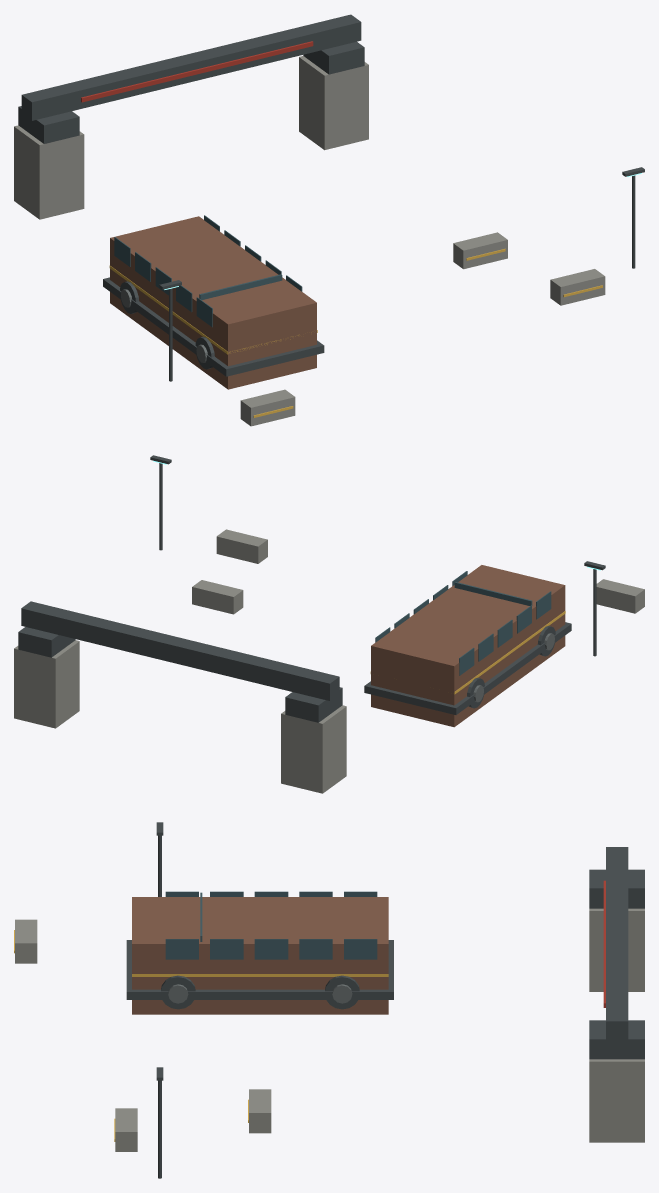
Rendered from Ville_02_Checkpoint.fbx.
3 renders of one model, top to bottom at view 1: azimuth 30°, elevation 25°; view 2: azimuth 150°, elevation 25°; view 3: azimuth 270°, elevation 25°, orthographic. The views are drawn at different scales.
Parts seen in each view (by area): view 1: Ville_02_Checkpoint_rust, Ville_02_Checkpoint_iron, Ville_02_Checkpoint_concrete, Ville_02_Checkpoint_glass, Ville_02_Checkpoint_red, Ville_02_Checkpoint_yellow; view 2: Ville_02_Checkpoint_rust, Ville_02_Checkpoint_iron, Ville_02_Checkpoint_concrete, Ville_02_Checkpoint_glass; view 3: Ville_02_Checkpoint_rust, Ville_02_Checkpoint_iron, Ville_02_Checkpoint_concrete, Ville_02_Checkpoint_glass, Ville_02_Checkpoint_yellow, Ville_02_Checkpoint_concrete_dark.
Boxes of the visible parts, x1=… form: Ville_02_Checkpoint_rust: x1=110, y1=216, x2=316, y2=389; Ville_02_Checkpoint_iron: x1=18, y1=14, x2=644, y2=381; Ville_02_Checkpoint_concrete: x1=14, y1=56, x2=605, y2=426; Ville_02_Checkpoint_glass: x1=114, y1=215, x2=302, y2=327; Ville_02_Checkpoint_red: x1=81, y1=41, x2=313, y2=102; Ville_02_Checkpoint_yellow: x1=109, y1=248, x2=602, y2=417; Ville_02_Checkpoint_rust: x1=371, y1=565, x2=565, y2=727; Ville_02_Checkpoint_iron: x1=18, y1=455, x2=605, y2=722; Ville_02_Checkpoint_concrete: x1=14, y1=529, x2=644, y2=793; Ville_02_Checkpoint_glass: x1=375, y1=571, x2=551, y2=675; Ville_02_Checkpoint_rust: x1=132, y1=897, x2=388, y2=1014; Ville_02_Checkpoint_iron: x1=126, y1=822, x2=644, y2=1178; Ville_02_Checkpoint_concrete: x1=15, y1=908, x2=644, y2=1151; Ville_02_Checkpoint_glass: x1=165, y1=891, x2=377, y2=959; Ville_02_Checkpoint_yellow: x1=14, y1=930, x2=388, y2=1141; Ville_02_Checkpoint_concrete_dark: x1=168, y1=984, x2=352, y2=1003.
Size of the model in its own units: 54.2 by 13.1 by 56.59.
